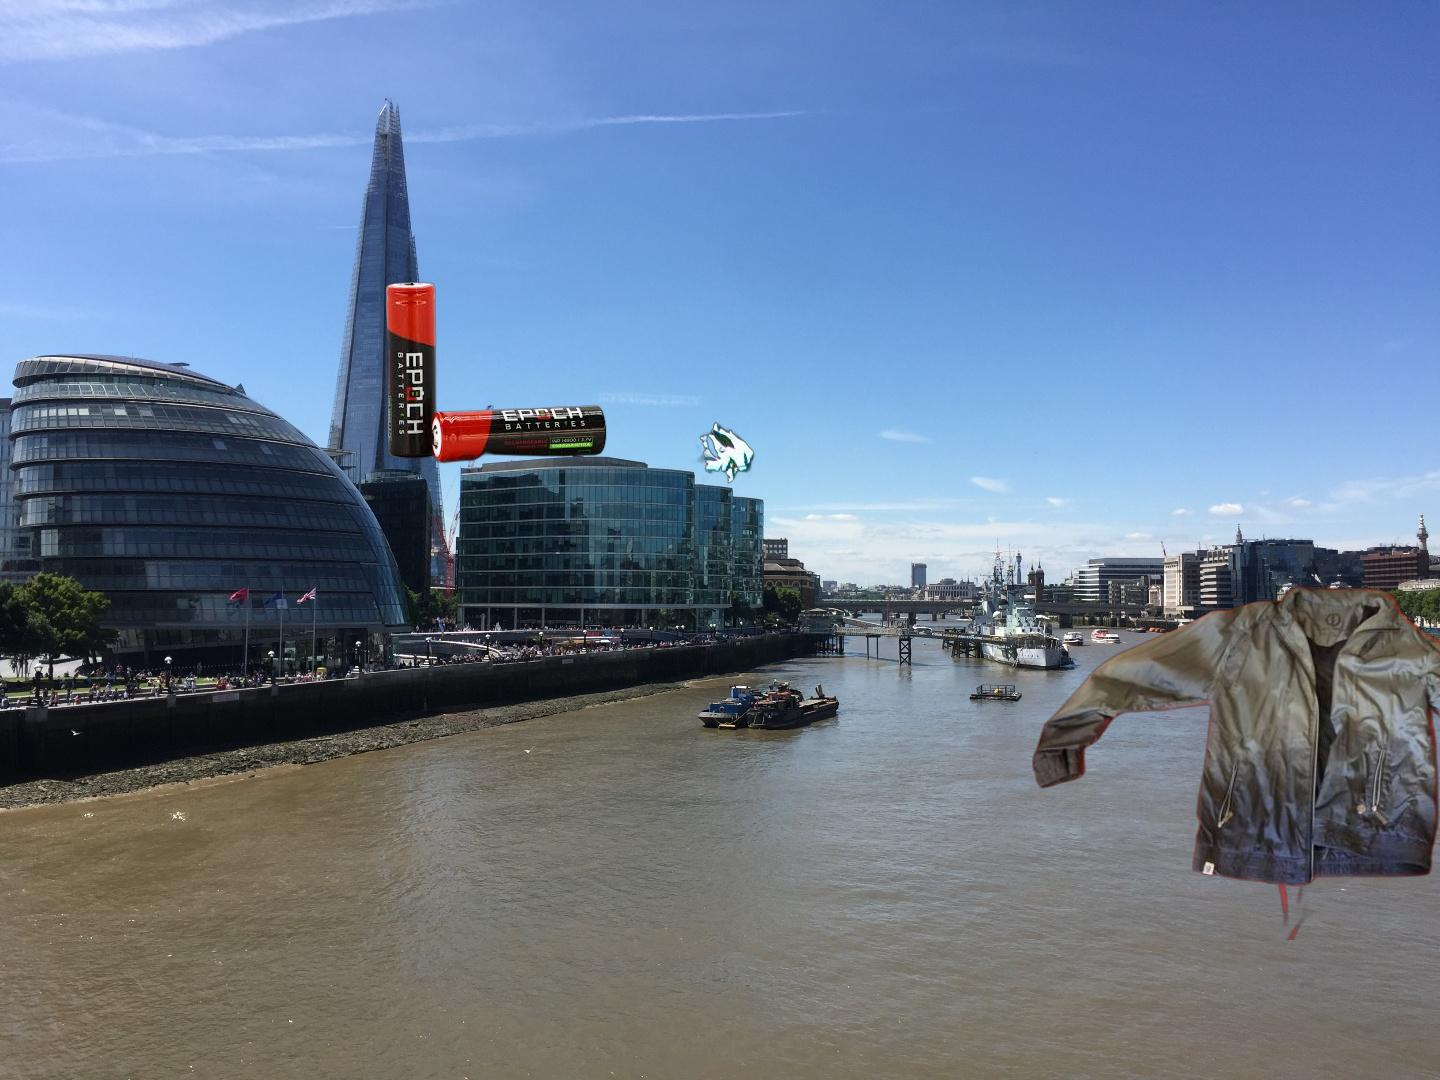battery: (384, 280, 608, 466)
clothes: (1029, 582, 1440, 940)
penholder: (2, 1008, 1034, 1080)
plastic-bag: (688, 419, 757, 489)
